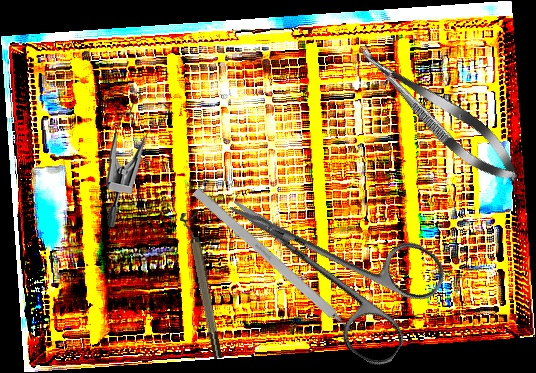Fixation Ring: (179, 210, 225, 361)
Hook Surgical: (191, 186, 370, 349)
Iris Scissors: (200, 147, 453, 373)
Micro Scissor: (346, 31, 530, 194)
Speculum: (104, 88, 172, 229)
